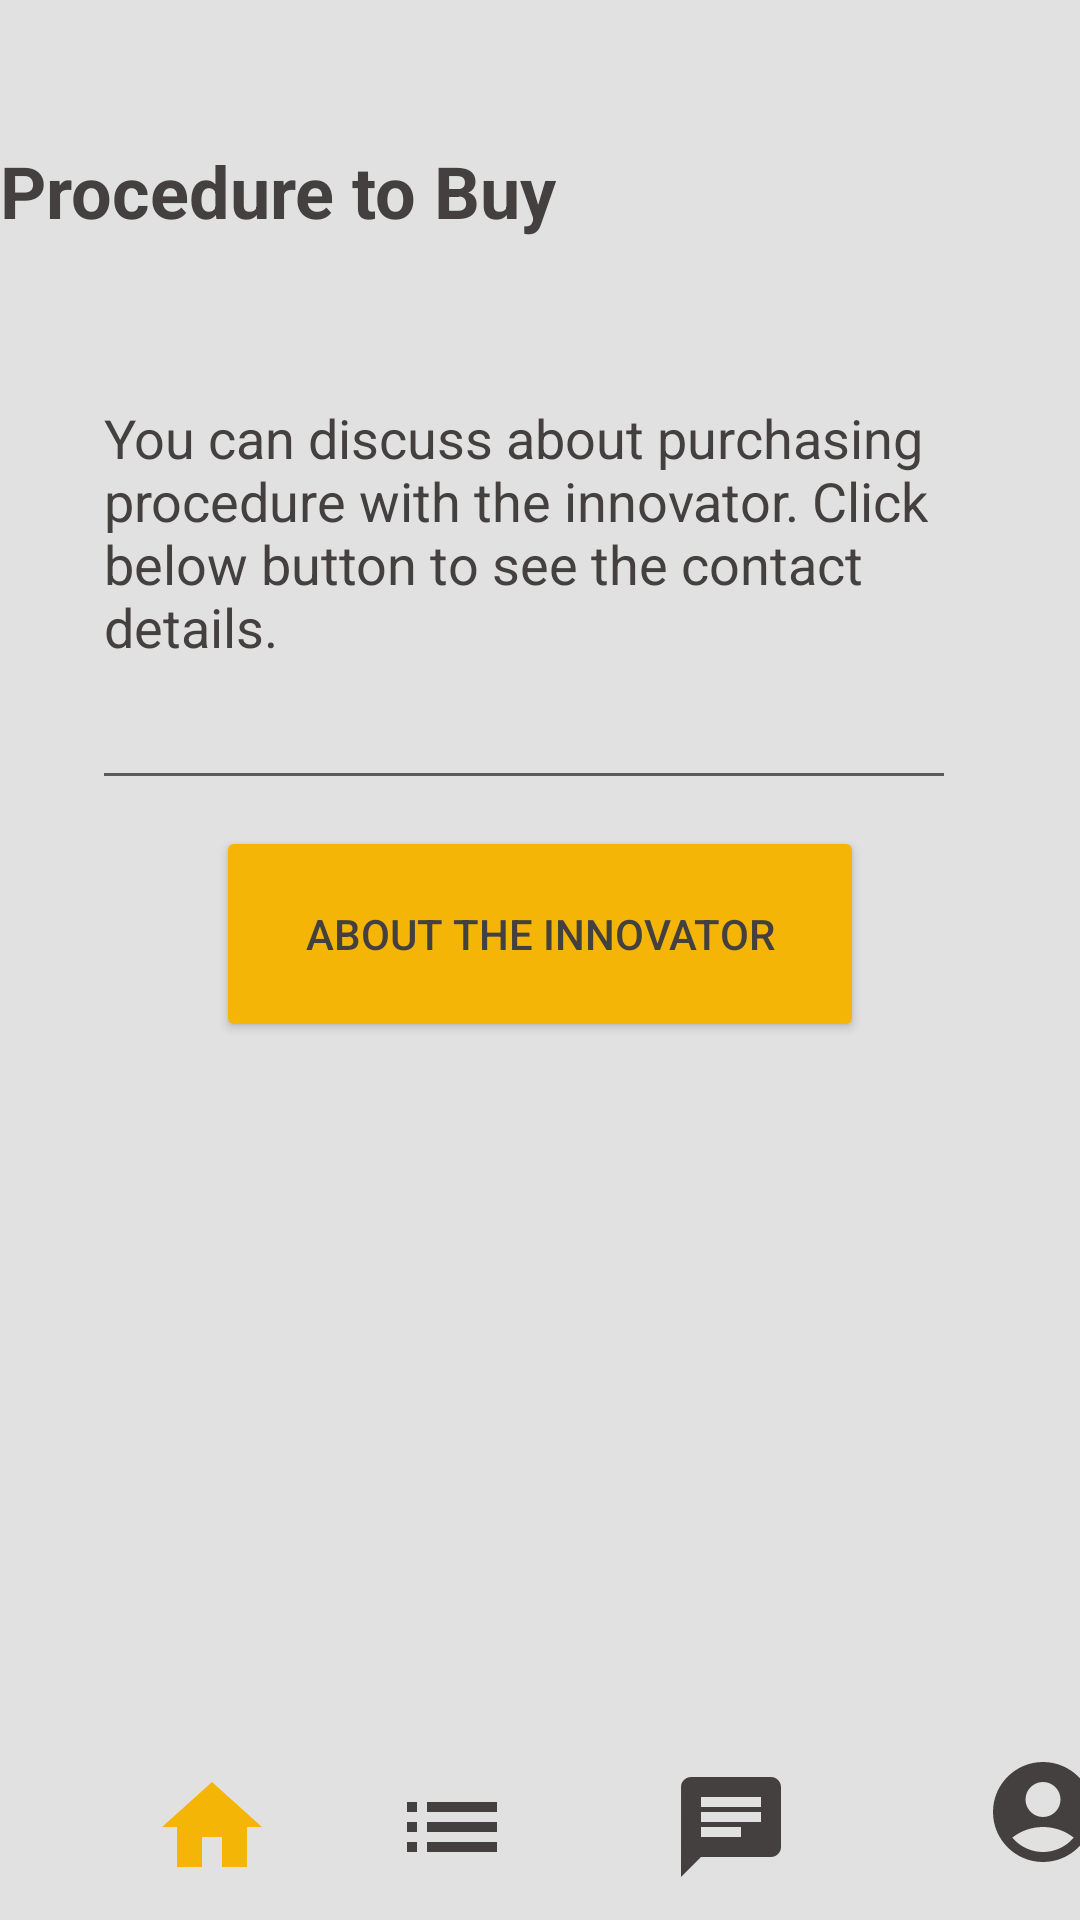

Icon bounding boxes for this 1080*1920 phone screenshot, format (x1,y1,x2,y2):
chat: (681,1777,781,1877)
home: (162,1782,262,1867)
list: (407,1802,497,1852)
